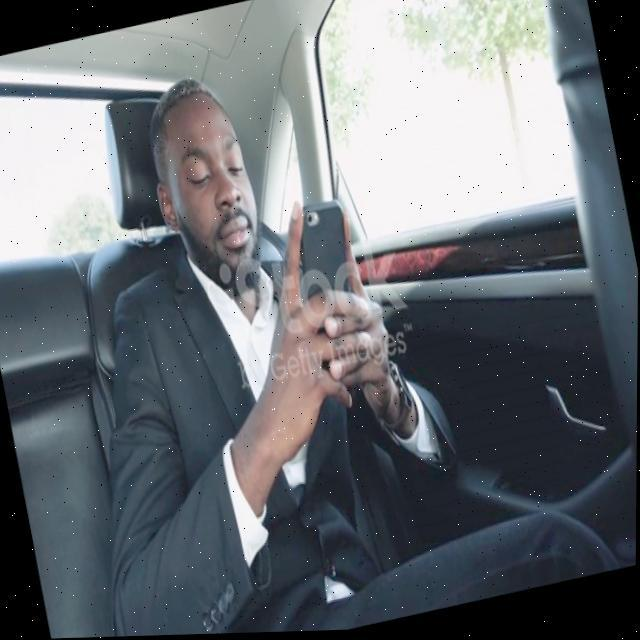PhoneCall: (290, 193, 371, 355)
